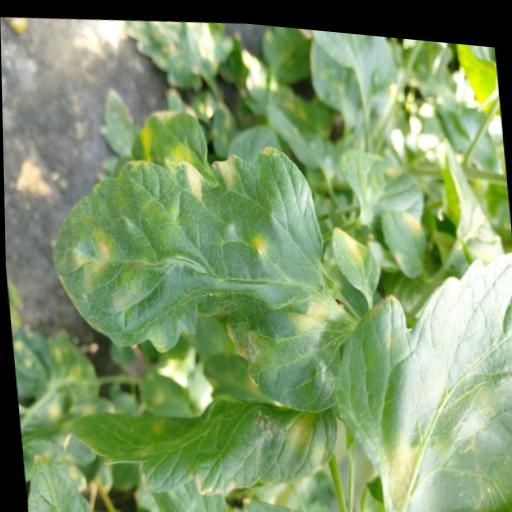Leaf Mold: (41, 119, 352, 424), (321, 227, 512, 512), (54, 328, 342, 512), (336, 135, 425, 225), (378, 197, 429, 272), (329, 216, 379, 290)
